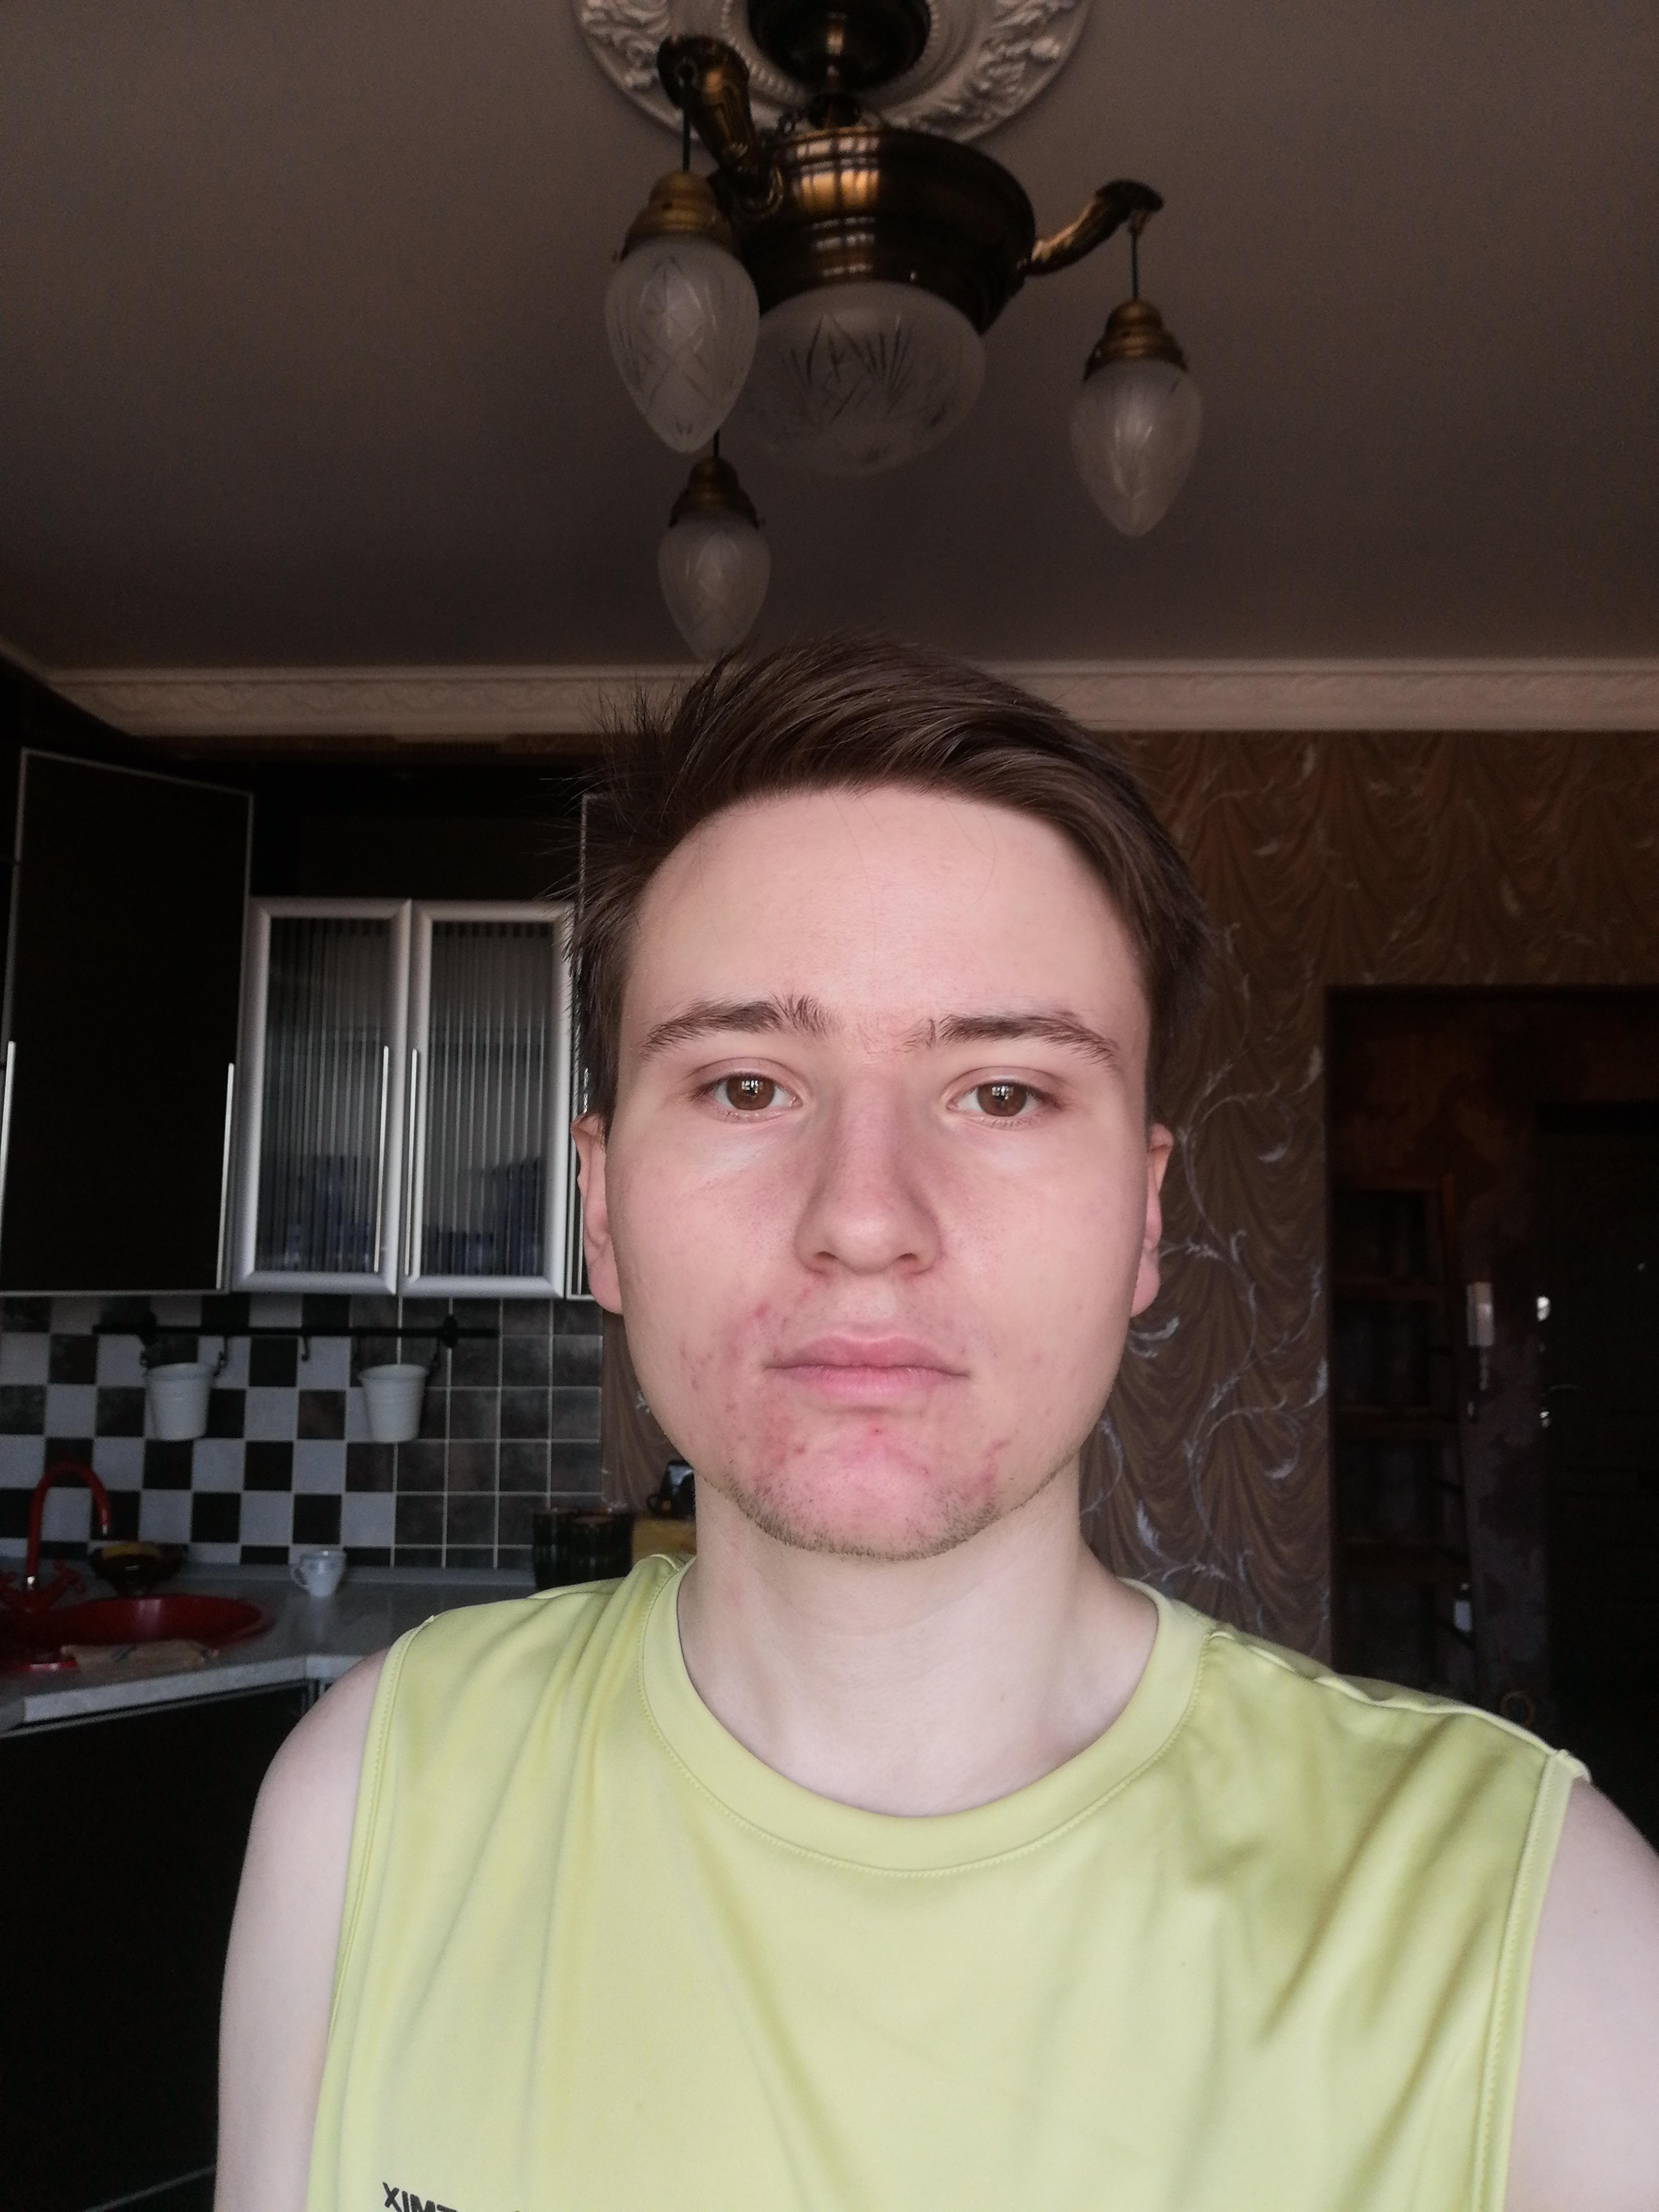Acne: (974, 1437, 1014, 1489), (765, 1430, 788, 1472), (1021, 1345, 1044, 1369), (697, 1341, 721, 1364), (866, 1420, 887, 1440), (941, 1313, 960, 1332), (756, 1299, 772, 1318), (957, 1341, 976, 1357), (800, 1282, 816, 1301), (770, 1348, 786, 1367), (915, 1461, 932, 1475), (723, 1399, 737, 1416), (795, 1440, 807, 1458), (781, 1312, 793, 1329), (687, 1378, 701, 1392), (678, 1339, 692, 1353)
Englarged-Pores: (945, 1181, 1011, 1278), (734, 1169, 798, 1254), (840, 1129, 889, 1212)
